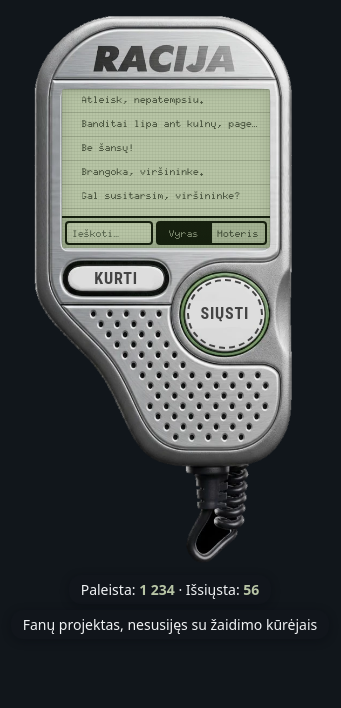
Test: Radio › share › error: message, no count
Step 1. Click the option "Atleisk, nepatempsiu." → (166, 101), box [62,89,270,113]
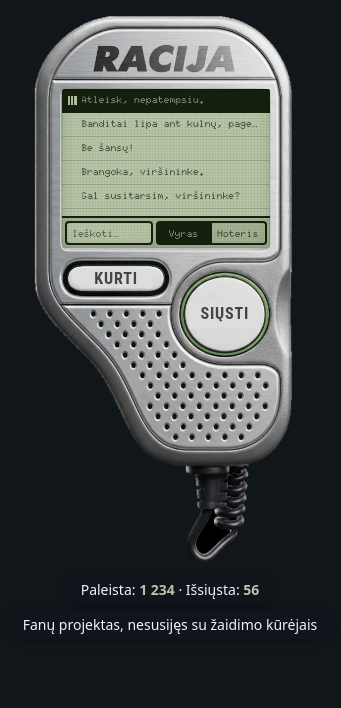
Step 2. Click the button with class "skey" showing "SIŲSTI" → (225, 315), box [181,273,269,356]
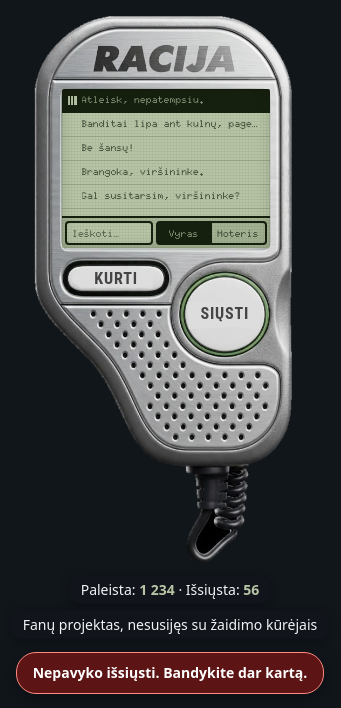
Expected: the text with class "toast" reads "Nepavyko išsiųsti. Bandykite dar kartą.", [33,663,307,682]
